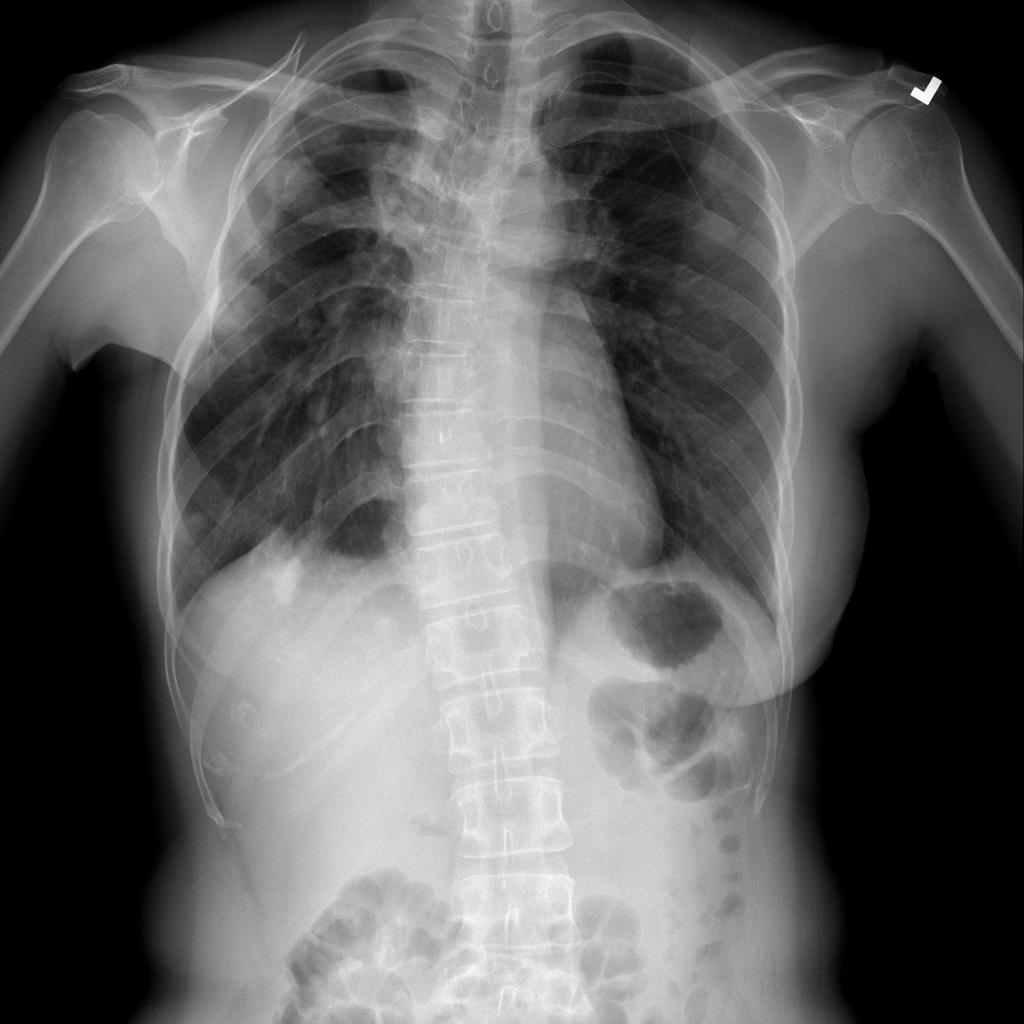nodule: (200, 267, 281, 344), (243, 516, 313, 605), (674, 198, 753, 270)
